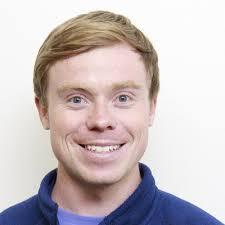person: (30, 4, 165, 181)
